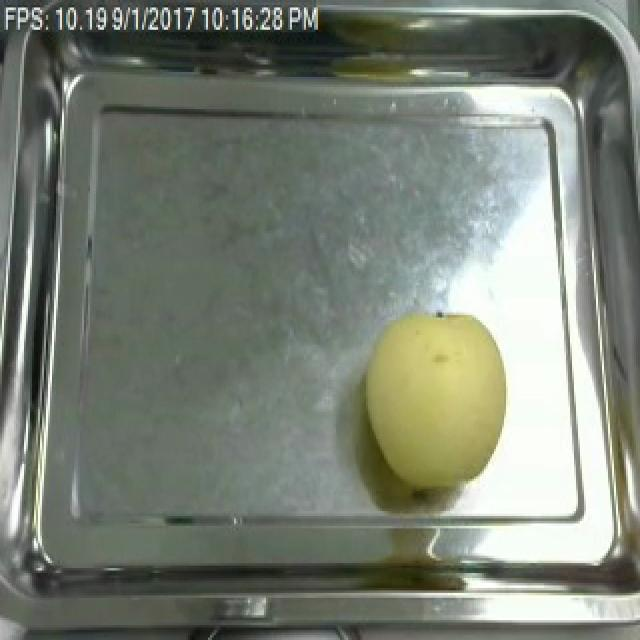Fruit: (354, 302, 516, 493)
